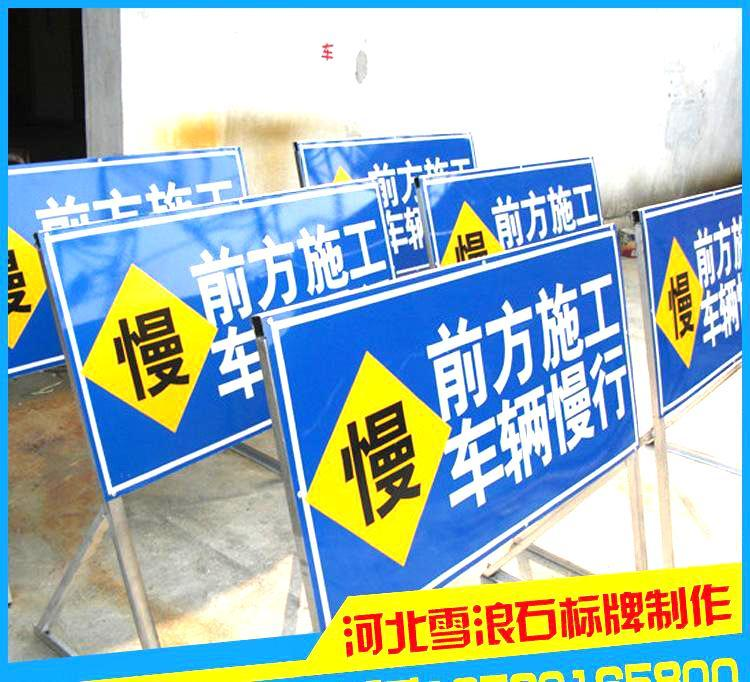sign: (307, 278, 635, 553), (59, 188, 375, 446), (365, 147, 605, 228), (662, 205, 740, 376)
